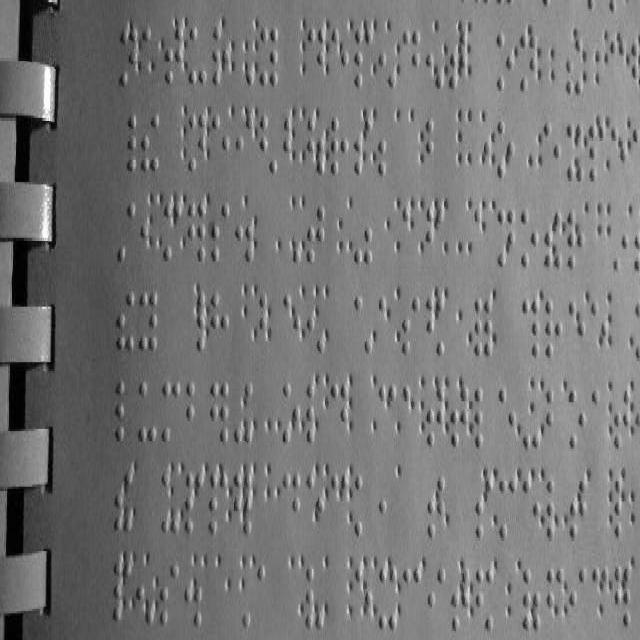braiile: (474, 384, 498, 456), (258, 558, 280, 634), (210, 290, 232, 354), (428, 561, 447, 635), (115, 378, 136, 444), (259, 23, 279, 92), (161, 561, 181, 630), (494, 28, 514, 96), (282, 468, 302, 536), (569, 566, 589, 634), (188, 20, 208, 87), (544, 296, 564, 362), (138, 378, 158, 444), (306, 202, 326, 264), (139, 291, 159, 353), (161, 380, 181, 442), (402, 292, 421, 357), (402, 28, 421, 92), (426, 119, 446, 179), (186, 378, 204, 444), (590, 386, 608, 450), (212, 200, 230, 262), (520, 207, 538, 269), (212, 111, 230, 169)
